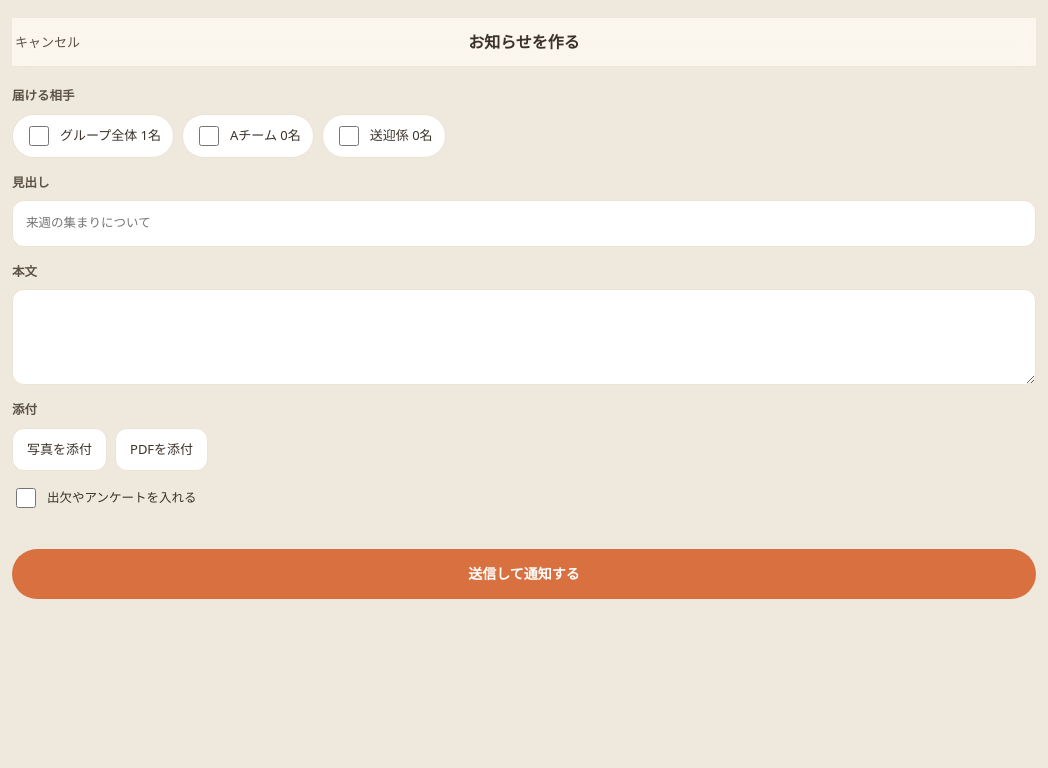
Test case: ComposeView › refuses to send an empty body with no attachment
This screenshot has width=1048, height=768.
Click the checkbox with test id "scope-option" showing "Aチーム 0名": click(209, 136) [199,126,219,146]
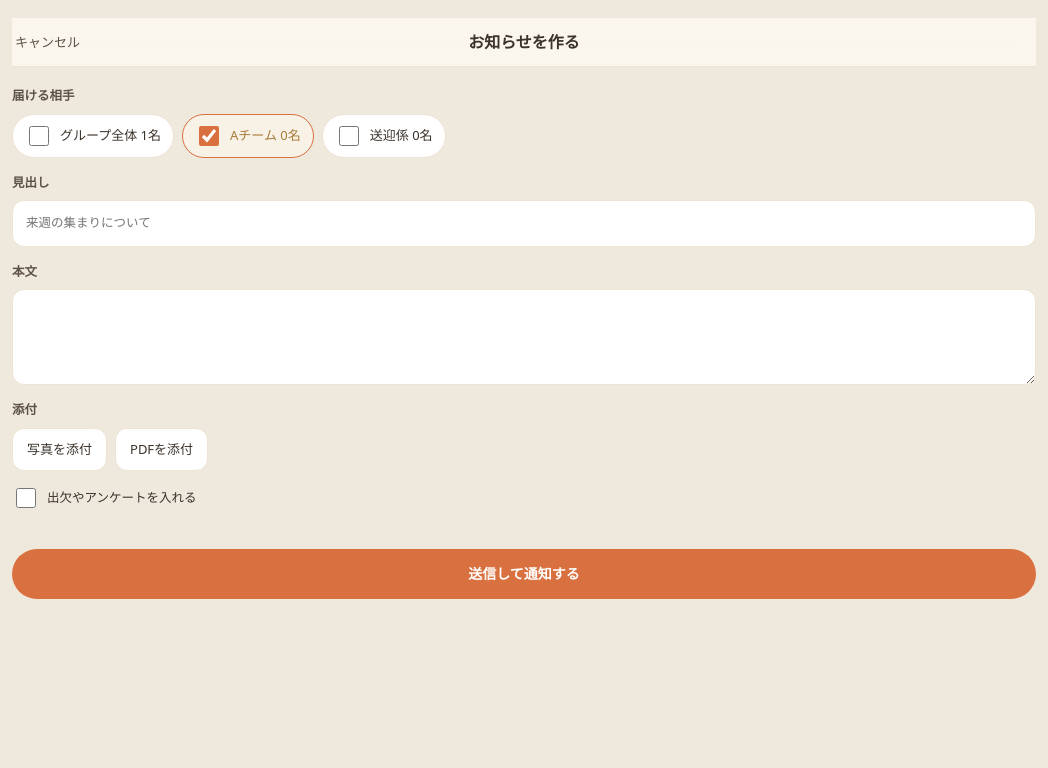
Click the button with test id "submit": click(524, 574) [12,549,1036,599]
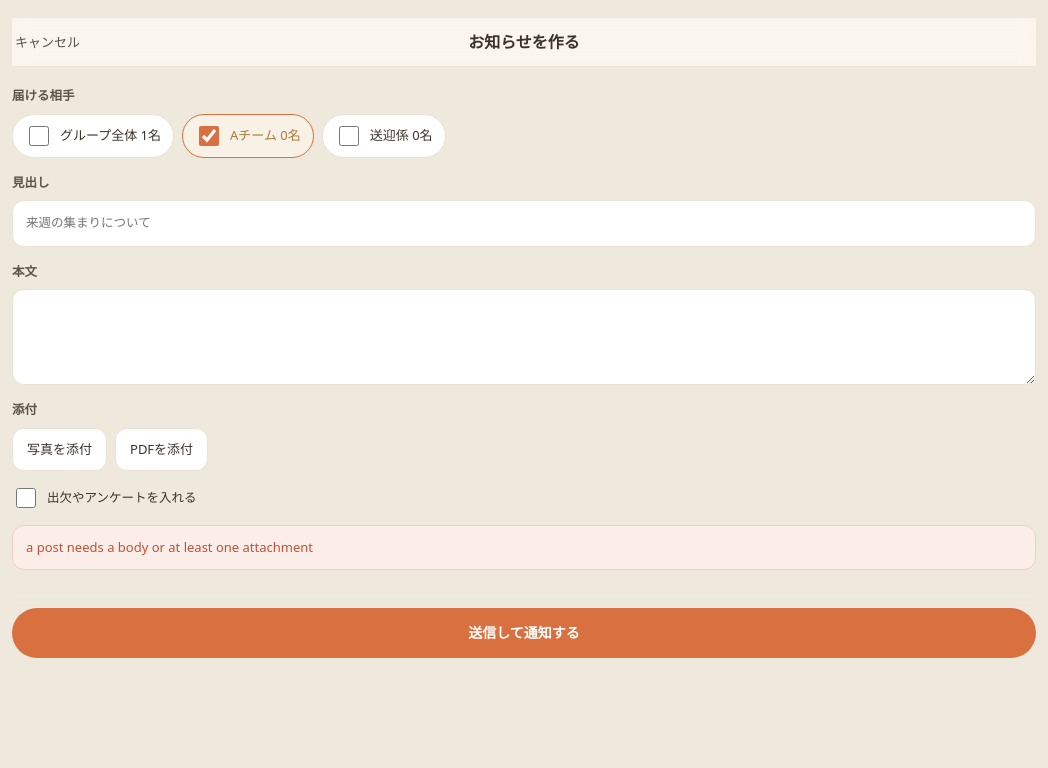
Check: the text "a post needs a body or at least one attachment" is shown, box [12,525,1036,570]
